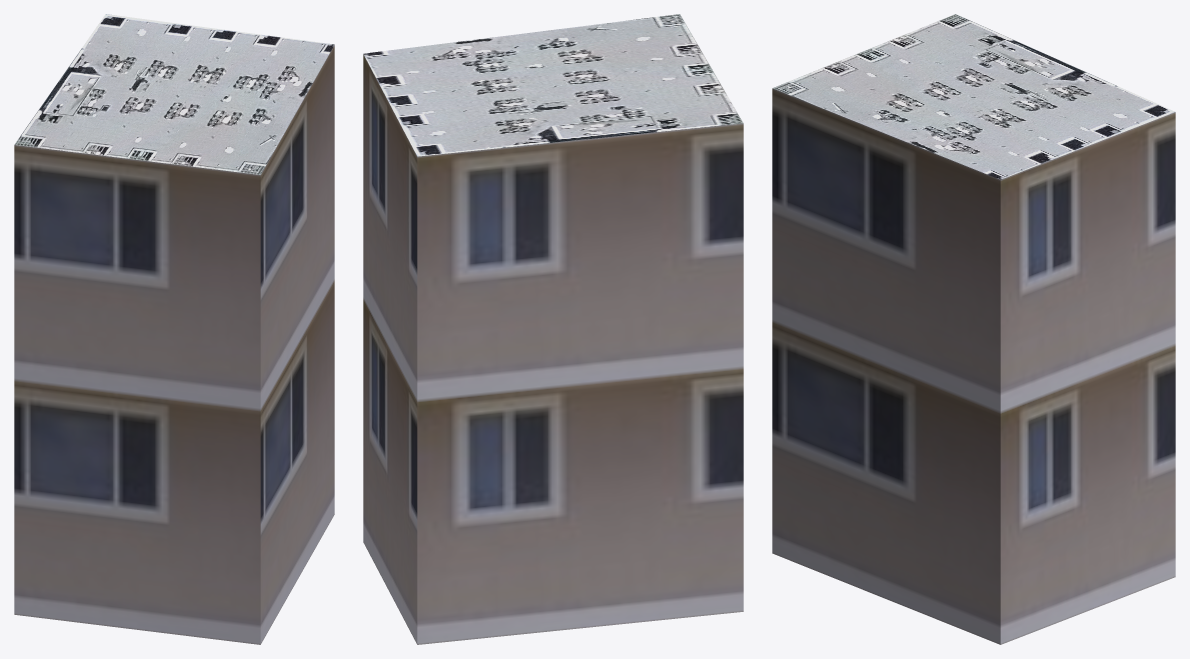
File: ResTex__4734.fbx
The picture shows the model from 3 angles, left to right: view 1: azimuth 30°, elevation 25°; view 2: azimuth 150°, elevation 25°; view 3: azimuth 270°, elevation 25°; orthographic projection. The views are drawn at different scales.
Visible parts, largest first — view 1: CityEngineMaterial_21_m, CityEngineMaterial_m; view 2: CityEngineMaterial_21_m, CityEngineMaterial_m; view 3: CityEngineMaterial_21_m, CityEngineMaterial_m.
Part boxes in pixels (bbox=[...]): CityEngineMaterial_21_m: bbox=[14, 45, 334, 644]; CityEngineMaterial_m: bbox=[14, 14, 334, 174]; CityEngineMaterial_21_m: bbox=[363, 54, 743, 644]; CityEngineMaterial_m: bbox=[363, 14, 743, 156]; CityEngineMaterial_21_m: bbox=[772, 88, 1175, 644]; CityEngineMaterial_m: bbox=[772, 14, 1174, 179].
Bounding box in the file's own units: 4.59 × 6 × 4.72.
2 materials, 2 textured.
